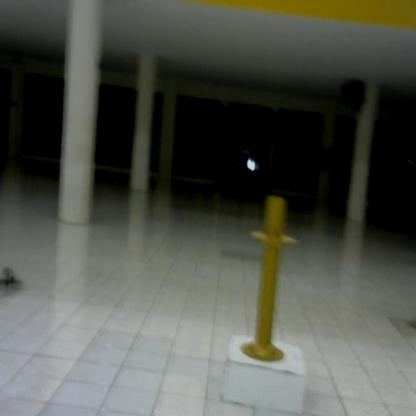pole: (240, 194, 303, 365)
